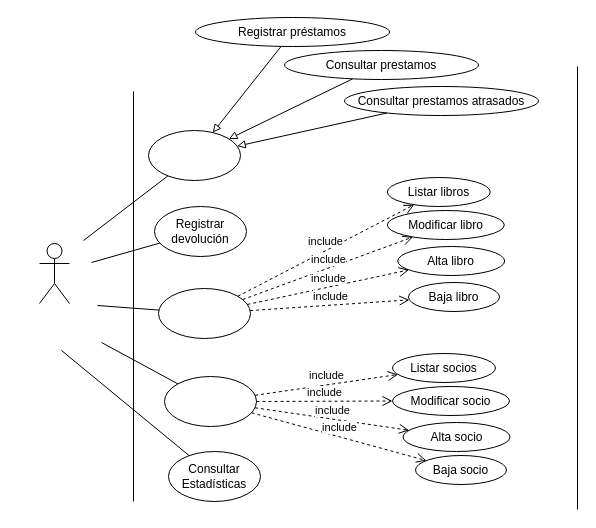
Image size: 596x528. Some labels were removed from this diagram. Here are the shapes that lost their labels. From the top down, the box of each, then its label:
(148, 130, 240, 180): Gestionar préstamos
(38, 242, 70, 304): Bibliotecario/ Administrativo
(158, 288, 250, 338): Gestionar Libros
(164, 376, 256, 426): Gestionar Socios
